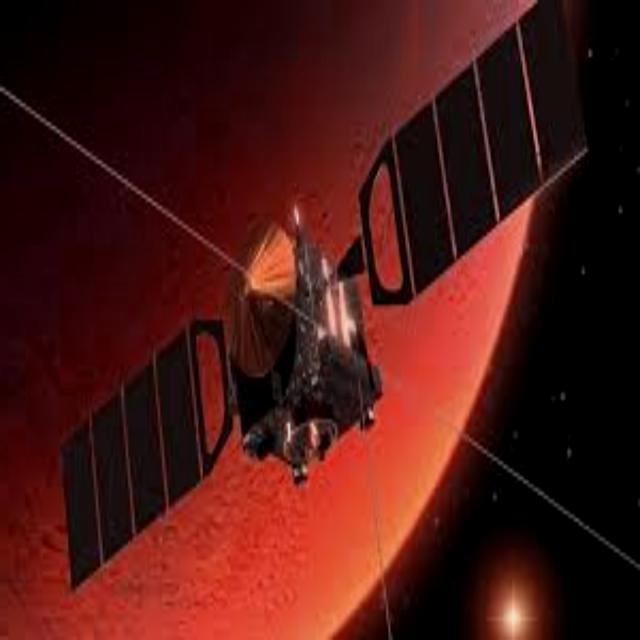medium_debris: (48, 0, 586, 596)
